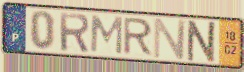0: (28, 9, 56, 52)
M: (89, 14, 124, 56)
N: (152, 17, 189, 61), (185, 19, 220, 65)
R: (57, 11, 91, 54), (121, 17, 155, 58)
